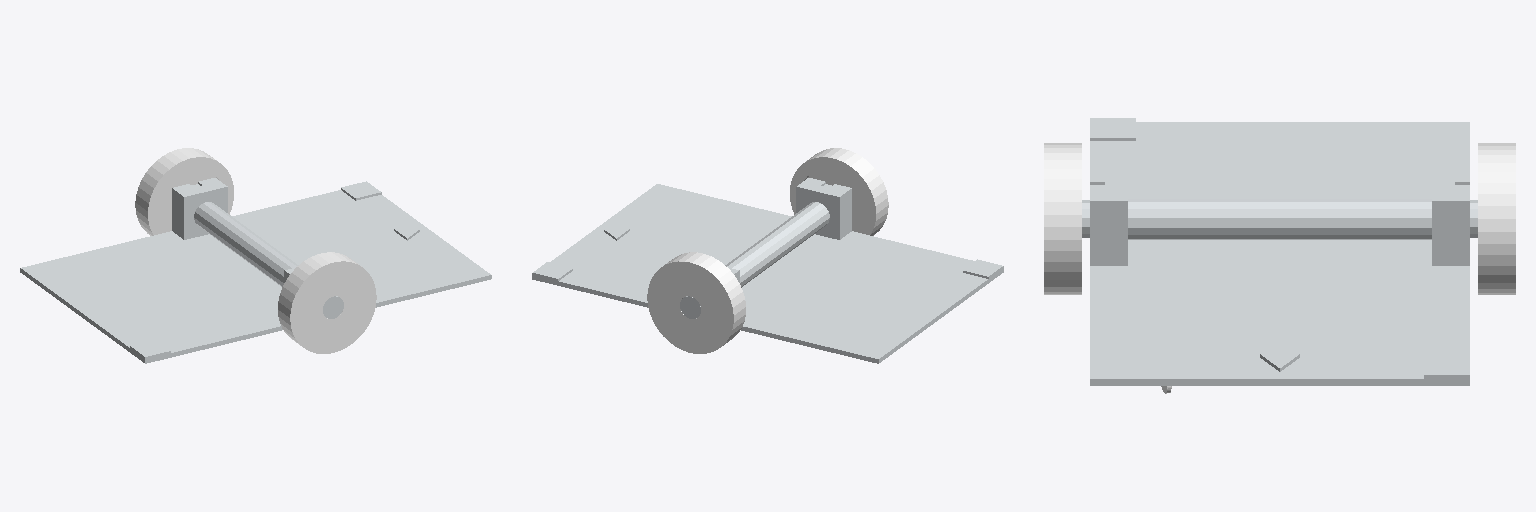
The robot description file, URDF, robot "amr":
<?xml version="1.0" ?>
<!-- =================================================================================== -->
<!-- |    This document was autogenerated by xacro from amr.urdf.xacro                 | -->
<!-- |    EDITING THIS FILE BY HAND IS NOT RECOMMENDED                                 | -->
<!-- =================================================================================== -->
<robot name="amr">
  <gazebo reference="base_link">
    <material>Gazebo/Blue</material>
  </gazebo>
  <!-- 
  <gazebo>
    <plugin filename="libgazebo_ros_diff_drive.so" name="amr_controller">
      <commandTopic>cmd_vel</commandTopic>
      <odometryTopic>odom_gazebo</odometryTopic>
      <odometryFrame>odom_gazebo</odometryFrame>
      <odometrySource>world</odometrySource>
      <publishOdomTF>false</publishOdomTF>
      <robotBaseFrame>base_link</robotBaseFrame>
      <publishWheelTF>false</publishWheelTF>
      <publishTf>true</publishTf>
      <publishWheelJointState>true</publishWheelJointState>
      <legacyMode>false</legacyMode>
      <updateRate>30</updateRate>
      <leftJoint>lw_joint</leftJoint>
      <rightJoint>rw_joint</rightJoint>
      <wheelSeparation>0.4</wheelSeparation>
      <wheelDiameter>0.2</wheelDiameter>
      <wheelAcceleration>1</wheelAcceleration>
      <wheelTorque>10</wheelTorque>
      <rosDebugLevel>na</rosDebugLevel>
    </plugin>
  </gazebo>
  -->
  <gazebo>
    <plugin filename="libgazebo_ros_diff_drive.so" name="differential_drive_controller">
      <alwaysOn>true</alwaysOn>
      <updateRate>100</updateRate>
      <leftJoint>lw_joint</leftJoint>
      <rightJoint>rw_joint</rightJoint>
      <wheelSeparation>0.5380</wheelSeparation>
      <wheelDiameter>0.2410</wheelDiameter>
      <torque>20</torque>
      <commandTopic>cmd_vel</commandTopic>
      <odometryTopic>odom/unfiltered</odometryTopic>
      <odometryFrame>odom</odometryFrame>
      <robotBaseFrame>base_link</robotBaseFrame>
      <legacyMode>false</legacyMode>
    </plugin>
  </gazebo>
  <!-- hokuyo -->
  <gazebo reference="hokuyo_link">
    <sensor name="head_hokuyo_sensor" type="ray">
      <pose>0 0 0 0 0 0</pose>
      <visualize>true</visualize>
      <update_rate>40</update_rate>
      <ray>
        <scan>
          <horizontal>
            <samples>1080</samples>
            <resolution>1</resolution>
            <min_angle>-2.35619</min_angle>
            <max_angle>2.35619</max_angle>
          </horizontal>
        </scan>
        <range>
          <min>0.10</min>
          <max>30.0</max>
          <resolution>0.01</resolution>
        </range>
        <noise>
          <type>gaussian</type>
          <!-- Noise parameters based on published spec for Hokuyo laser
               achieving "+-30mm" accuracy at range < 10m.  A mean of 0.0m and
               stddev of 0.01m will put 99.7% of samples within 0.03m of the true
               reading. -->
          <mean>0.0</mean>
          <stddev>0.02</stddev>
        </noise>
      </ray>
      <plugin filename="libgazebo_ros_laser.so" name="gazebo_ros_head_hokuyo_controller">
        <topicName>/scan</topicName>
        <frameName>hokuyo_link</frameName>
      </plugin>
    </sensor>
  </gazebo>
  <link name="base_link">
    <inertial>
      <origin rpy="0 0 0" xyz="0.000331566894459373 -1.38869584628603E-18 0.0226798732825691"/>
      <mass value="16.6607693249907"/>
      <inertia ixx="0.342900416454384" ixy="-0.00791208000000003" ixz="-4.11696589312513E-05" iyy="0.595999267514538" iyz="-2.06655190930544E-17" izz="0.933088946009388"/>
    </inertial>
    <visual>
      <origin rpy="0 0 0" xyz="0 0 0"/>
      <geometry>
        <mesh filename="package://amr_description/meshes/base_link.STL"/>
      </geometry>
      <material name="">
        <color rgba="0.898039215686275 0.917647058823529 0.929411764705882 1"/>
      </material>
    </visual>
    <collision>
      <origin rpy="0 0 0" xyz="0 0 0"/>
      <geometry>
        <mesh filename="package://amr_description/meshes/base_link.STL"/>
      </geometry>
    </collision>
  </link>
  <link name="lw_link">
    <inertial>
      <origin rpy="0 0 0" xyz="1.90819582357449E-17 0 -0.0273880597014926"/>
      <mass value="1.34185276216454"/>
      <inertia ixx="0.00397939442139444" ixy="-2.16840434497101E-19" ixz="-5.79710388341049E-20" iyy="0.00397939442139444" iyz="1.23940974937118E-21" izz="0.00747907672941523"/>
    </inertial>
    <visual>
      <origin rpy="0 0 0" xyz="0 0 0"/>
      <geometry>
        <mesh filename="package://amr_description/meshes/lw_link.STL"/>
      </geometry>
      <material name="">
        <color rgba="1 1 1 1"/>
      </material>
    </visual>
    <collision>
      <origin rpy="0 0 0" xyz="0 0 0"/>
      <geometry>
        <mesh filename="package://amr_description/meshes/lw_link.STL"/>
      </geometry>
    </collision>
  </link>
  <joint name="lw_joint" type="continuous">
    <origin rpy="-1.5707963267949 0.273855441267016 3.14159265358979" xyz="0 0.26 0.055"/>
    <parent link="base_link"/>
    <child link="lw_link"/>
    <axis xyz="0 0 -1"/>
    <safety_controller k_velocity="0"/>
  </joint>
  <link name="rw_link">
    <inertial>
      <origin rpy="0 0 0" xyz="1.1106354187428E-17 0 -0.0273880597014926"/>
      <mass value="1.34185276216454"/>
      <inertia ixx="0.00397939442139445" ixy="-3.23472618749719E-35" ixz="-1.8026519749501E-21" iyy="0.00397939442139445" iyz="-1.7985063567581E-35" izz="0.00747907672941523"/>
    </inertial>
    <visual>
      <origin rpy="0 0 0" xyz="0 0 0"/>
      <geometry>
        <mesh filename="package://amr_description/meshes/rw_link.STL"/>
      </geometry>
      <material name="">
        <color rgba="1 1 1 1"/>
      </material>
    </visual>
    <collision>
      <origin rpy="0 0 0" xyz="0 0 0"/>
      <geometry>
        <mesh filename="package://amr_description/meshes/rw_link.STL"/>
      </geometry>
    </collision>
  </link>
  <joint name="rw_joint" type="continuous">
    <origin rpy="1.5707963267949 0 3.14159265358979" xyz="0 -0.26 0.055"/>
    <parent link="base_link"/>
    <child link="rw_link"/>
    <axis xyz="0 0 1"/>
    <safety_controller k_velocity="0"/>
  </joint>
  <link name="flc_link">
    <inertial>
      <origin rpy="0 0 0" xyz="0 -0.0104639072674438 0"/>
      <mass value="0.00737117883440488"/>
      <inertia ixx="1.43643640511466E-06" ixy="-9.24994132532978E-23" ixz="0" iyy="1.26133689808569E-07" iyz="3.92477458277648E-23" izz="1.4200125484889E-06"/>
    </inertial>
    <visual>
      <origin rpy="0 0 0" xyz="0 0 0"/>
      <geometry>
        <mesh filename="package://amr_description/meshes/flc_link.STL"/>
      </geometry>
      <material name="">
        <color rgba="0.898039215686275 0.917647058823529 0.929411764705882 1"/>
      </material>
    </visual>
    <collision>
      <origin rpy="0 0 0" xyz="0 0 0"/>
      <geometry>
        <mesh filename="package://amr_description/meshes/flc_link.STL"/>
      </geometry>
    </collision>
  </link>
  <joint name="flc_joint" type="continuous">
    <origin rpy="1.5707963267949 0 0.302678309023654" xyz="0.325 0.15 0"/>
    <parent link="base_link"/>
    <child link="flc_link"/>
    <axis xyz="0 1 0"/>
    <safety_controller k_velocity="0"/>
  </joint>
  <link name="flw_link">
    <inertial>
      <origin rpy="0 0 0" xyz="-5.55111512312578E-17 0 2.77555756156289E-17"/>
      <mass value="0.00384530940799391"/>
      <inertia ixx="2.51867766223601E-07" ixy="-4.58926493494391E-41" ixz="-4.63221143029696E-23" iyy="2.51867766223601E-07" iyz="-4.17990250274816E-40" izz="4.80663675999238E-07"/>
    </inertial>
    <visual>
      <origin rpy="0 0 0" xyz="0 0 0"/>
      <geometry>
        <mesh filename="package://amr_description/meshes/flw_link.STL"/>
      </geometry>
      <material name="">
        <color rgba="1 1 1 1"/>
      </material>
    </visual>
    <collision>
      <origin rpy="0 0 0" xyz="0 0 0"/>
      <geometry>
        <mesh filename="package://amr_description/meshes/flw_link.STL"/>
      </geometry>
    </collision>
  </link>
  <joint name="flw_joint" type="continuous">
    <origin rpy="3.14159265358979 0 3.14159265358979" xyz="0 -0.03 0"/>
    <parent link="flc_link"/>
    <child link="flw_link"/>
    <axis xyz="0 0 1"/>
    <safety_controller k_velocity="0"/>
  </joint>
  <link name="frc_link">
    <inertial>
      <origin rpy="0 0 0" xyz="0 -0.0104639072674438 -5.55111512312578E-17"/>
      <mass value="0.00737117883440488"/>
      <inertia ixx="1.43643640511466E-06" ixy="-9.4508637668121E-23" ixz="0" iyy="1.26133689808569E-07" iyz="4.2023419920401E-23" izz="1.4200125484889E-06"/>
    </inertial>
    <visual>
      <origin rpy="0 0 0" xyz="0 0 0"/>
      <geometry>
        <mesh filename="package://amr_description/meshes/frc_link.STL"/>
      </geometry>
      <material name="">
        <color rgba="0.898039215686275 0.917647058823529 0.929411764705882 1"/>
      </material>
    </visual>
    <collision>
      <origin rpy="0 0 0" xyz="0 0 0"/>
      <geometry>
        <mesh filename="package://amr_description/meshes/frc_link.STL"/>
      </geometry>
    </collision>
  </link>
  <joint name="frc_joint" type="continuous">
    <origin rpy="1.5707963267949 0 0.302678309023654" xyz="0.325 -0.15 0"/>
    <parent link="base_link"/>
    <child link="frc_link"/>
    <axis xyz="0 1 0"/>
    <safety_controller k_velocity="0"/>
  </joint>
  <link name="frw_link">
    <inertial>
      <origin rpy="0 0 0" xyz="0 0 5.55111512312578E-17"/>
      <mass value="0.00384530940799391"/>
      <inertia ixx="2.51867766223601E-07" ixy="-4.58926493494544E-41" ixz="-4.63221143029696E-23" iyy="2.51867766223601E-07" iyz="-4.17990250274816E-40" izz="4.80663675999238E-07"/>
    </inertial>
    <visual>
      <origin rpy="0 0 0" xyz="0 0 0"/>
      <geometry>
        <mesh filename="package://amr_description/meshes/frw_link.STL"/>
      </geometry>
      <material name="">
        <color rgba="1 1 1 1"/>
      </material>
    </visual>
    <collision>
      <origin rpy="0 0 0" xyz="0 0 0"/>
      <geometry>
        <mesh filename="package://amr_description/meshes/frw_link.STL"/>
      </geometry>
    </collision>
  </link>
  <joint name="frw_joint" type="continuous">
    <origin rpy="3.14159265358979 0 3.14159265358979" xyz="0 -0.03 0"/>
    <parent link="frc_link"/>
    <child link="frw_link"/>
    <axis xyz="0 0 1"/>
    <safety_controller k_velocity="0"/>
  </joint>
  <link name="rlc_link">
    <inertial>
      <origin rpy="0 0 0" xyz="0 -0.0104639072674438 2.77555756156289E-17"/>
      <mass value="0.0073711788344049"/>
      <inertia ixx="1.43643640511466E-06" ixy="-1.01781597610719E-21" ixz="-1.58818677610181E-22" iyy="1.2613368980857E-07" iyz="-2.21052017608903E-22" izz="1.42001254848891E-06"/>
    </inertial>
    <visual>
      <origin rpy="0 0 0" xyz="0 0 0"/>
      <geometry>
        <mesh filename="package://amr_description/meshes/rlc_link.STL"/>
      </geometry>
      <material name="">
        <color rgba="0.898039215686275 0.917647058823529 0.929411764705882 1"/>
      </material>
    </visual>
    <collision>
      <origin rpy="0 0 0" xyz="0 0 0"/>
      <geometry>
        <mesh filename="package://amr_description/meshes/rlc_link.STL"/>
      </geometry>
    </collision>
  </link>
  <joint name="rlc_joint" type="continuous">
    <origin rpy="1.5707963267949 0 -1.03857643916073" xyz="-0.325 0.15 0"/>
    <parent link="base_link"/>
    <child link="rlc_link"/>
    <axis xyz="0 1 0"/>
    <safety_controller k_velocity="0"/>
  </joint>
  <link name="rlw_link">
    <inertial>
      <origin rpy="0 0 0" xyz="5.55111512312578E-17 2.77555756156289E-17 5.55111512312578E-17"/>
      <mass value="0.00384530940799391"/>
      <inertia ixx="2.51867766223601E-07" ixy="5.29395592033938E-23" ixz="3.37489689921635E-22" iyy="2.51867766223601E-07" iyz="2.84550130718242E-22" izz="4.80663675999239E-07"/>
    </inertial>
    <visual>
      <origin rpy="0 0 0" xyz="0 0 0"/>
      <geometry>
        <mesh filename="package://amr_description/meshes/rlw_link.STL"/>
      </geometry>
      <material name="">
        <color rgba="1 1 1 1"/>
      </material>
    </visual>
    <collision>
      <origin rpy="0 0 0" xyz="0 0 0"/>
      <geometry>
        <mesh filename="package://amr_description/meshes/rlw_link.STL"/>
      </geometry>
    </collision>
  </link>
  <joint name="rlw_joint" type="continuous">
    <origin rpy="-3.14159265358979 0 0.637762511071717" xyz="0 -0.0300000000000003 0"/>
    <parent link="rlc_link"/>
    <child link="rlw_link"/>
    <axis xyz="0 0 1"/>
    <safety_controller k_velocity="0"/>
  </joint>
  <link name="rrc_link">
    <inertial>
      <origin rpy="0 0 0" xyz="0 -0.0104639072674438 0"/>
      <mass value="0.00737117883440487"/>
      <inertia ixx="1.43643640511466E-06" ixy="-3.97763393383722E-22" ixz="1.58818677610181E-22" iyy="1.26133689808569E-07" iyz="-1.05058384208789E-22" izz="1.4200125484889E-06"/>
    </inertial>
    <visual>
      <origin rpy="0 0 0" xyz="0 0 0"/>
      <geometry>
        <mesh filename="package://amr_description/meshes/rrc_link.STL"/>
      </geometry>
      <material name="">
        <color rgba="0.898039215686275 0.917647058823529 0.929411764705882 1"/>
      </material>
    </visual>
    <collision>
      <origin rpy="0 0 0" xyz="0 0 0"/>
      <geometry>
        <mesh filename="package://amr_description/meshes/rrc_link.STL"/>
      </geometry>
    </collision>
  </link>
  <joint name="rrc_joint" type="continuous">
    <origin rpy="1.5707963267949 0 -2.04580309292895" xyz="-0.324999999999998 -0.15 0"/>
    <parent link="base_link"/>
    <child link="rrc_link"/>
    <axis xyz="0 1 0"/>
    <safety_controller k_velocity="0"/>
  </joint>
  <link name="rrw_link">
    <inertial>
      <origin rpy="0 0 0" xyz="-5.55111512312578E-17 1.05124242644195E-15 2.77555756156289E-17"/>
      <mass value="0.00384530940799392"/>
      <inertia ixx="2.51867766223602E-07" ixy="-4.96308367531817E-24" ixz="-7.94093388050907E-23" iyy="2.51867766223602E-07" iyz="4.17726209339279E-22" izz="4.8066367599924E-07"/>
    </inertial>
    <visual>
      <origin rpy="0 0 0" xyz="0 0 0"/>
      <geometry>
        <mesh filename="package://amr_description/meshes/rrw_link.STL"/>
      </geometry>
      <material name="">
        <color rgba="1 1 1 1"/>
      </material>
    </visual>
    <collision>
      <origin rpy="0 0 0" xyz="0 0 0"/>
      <geometry>
        <mesh filename="package://amr_description/meshes/rrw_link.STL"/>
      </geometry>
    </collision>
  </link>
  <joint name="rrw_joint" type="continuous">
    <origin rpy="0 0 -0.13755116916335" xyz="0 -0.03 0"/>
    <parent link="rrc_link"/>
    <child link="rrw_link"/>
    <axis xyz="0 0 1"/>
    <safety_controller k_velocity="0"/>
  </joint>
  <joint name="hokuyo_joint" type="fixed">
    <origin rpy="0 0 0.7853" xyz="0.40 0.25 0.2"/>
    <parent link="base_link"/>
    <child link="hokuyo_link"/>
  </joint>
  <link name="hokuyo_link">
    <visual>
      <origin rpy="0 0 0" xyz="0 0 0"/>
      <geometry>
        <mesh filename="model://hokuyo/meshes/hokuyo.dae"/>
      </geometry>
    </visual>
    <collision>
      <origin rpy="0 0 0" xyz="0 0 0"/>
      <geometry>
        <mesh filename="model://hokuyo/meshes/hokuyo.dae"/>
      </geometry>
    </collision>
  </link>
</robot>

--- Facts derived from the render (not from the file) ---
Views: 3 orthographic renders of the robot side by side, from view 1: azimuth 30°, elevation 25°; view 2: azimuth 150°, elevation 25°; view 3: azimuth 270°, elevation 25°.
Model amr with 12 links and 11 joints (10 continuous, 1 fixed), rooted at base_link, posed all joints at 0.
Visible links, largest first — view 1: base_link, rw_link, lw_link; view 2: base_link, lw_link, rw_link; view 3: base_link, lw_link, rw_link.
Link boxes in pixels (<box>): base_link: <box>20,178,491,363</box>; rw_link: <box>278,252,376,353</box>; lw_link: <box>135,148,233,235</box>; base_link: <box>532,178,1003,363</box>; lw_link: <box>647,252,745,353</box>; rw_link: <box>790,148,888,235</box>; base_link: <box>1082,118,1477,385</box>; lw_link: <box>1478,143,1515,294</box>; rw_link: <box>1044,143,1081,294</box>.
Size in the robot's own frame: 0.8 by 0.62 by 0.2 metres.
10 mesh visuals loaded from 12 distinct referenced files (10 binary STL); not drawn: 2 (reference not matched to a file when rendering).
